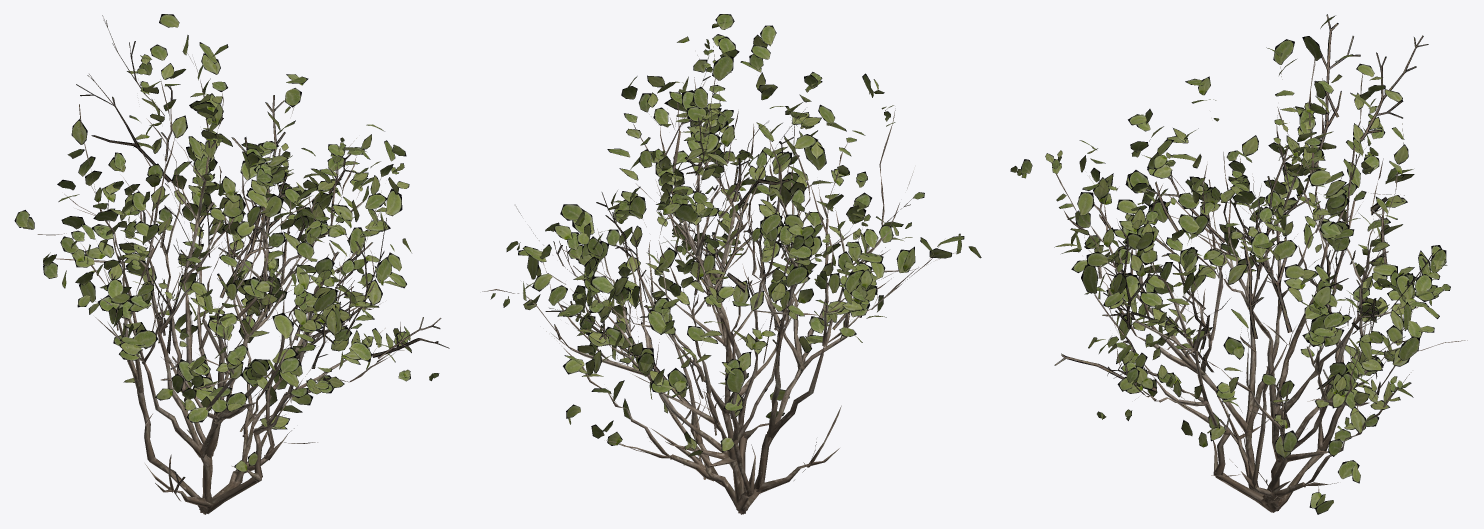
File: searsia_lucida.glb
3 renders of one model, left to right at view 1: azimuth 30°, elevation 25°; view 2: azimuth 150°, elevation 25°; view 3: azimuth 270°, elevation 25°, orthographic. The views are drawn at different scales.
Parts seen in each view (by area): view 1: searsia_lucida_a_LOD0.002, searsia_lucida_a_LOD0.001, searsia_lucida_a_LOD0; view 2: searsia_lucida_a_LOD0.002, searsia_lucida_a_LOD0.001, searsia_lucida_a_LOD0; view 3: searsia_lucida_a_LOD0.002, searsia_lucida_a_LOD0.001, searsia_lucida_a_LOD0.
Boxes of the visible parts, <box> form: searsia_lucida_a_LOD0.002: <box>14,14,439,472</box>; searsia_lucida_a_LOD0.001: <box>37,53,404,514</box>; searsia_lucida_a_LOD0: <box>76,15,449,500</box>; searsia_lucida_a_LOD0.002: <box>490,14,981,456</box>; searsia_lucida_a_LOD0.001: <box>482,42,955,514</box>; searsia_lucida_a_LOD0: <box>515,73,958,480</box>; searsia_lucida_a_LOD0.002: <box>1010,15,1450,514</box>; searsia_lucida_a_LOD0.001: <box>1051,55,1467,512</box>; searsia_lucida_a_LOD0: <box>1054,14,1434,501</box>.
Size of the model in its own units: 1.72 by 2.33 by 1.97.
3 materials, 3 textured.
